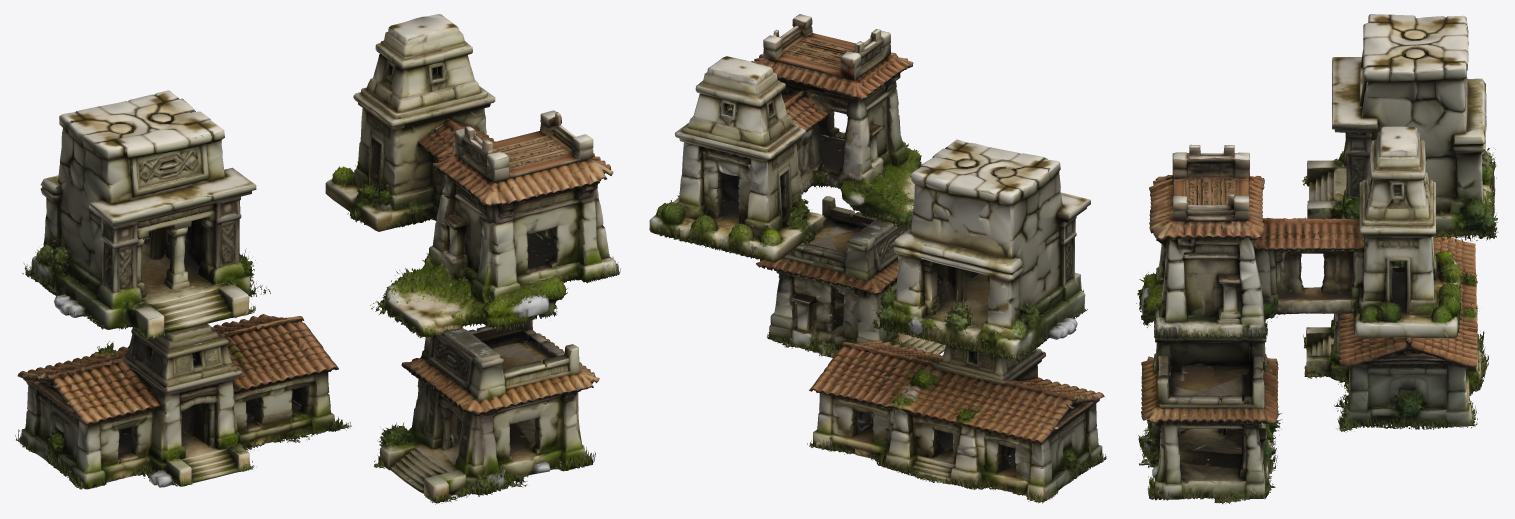
The model's file is Ancient_Stone_Structu.glb.
The picture shows the model from 3 angles, left to right: view 1: azimuth 30°, elevation 25°; view 2: azimuth 150°, elevation 25°; view 3: azimuth 270°, elevation 25°; orthographic projection. The views are drawn at different scales.
Parts seen in each view (by area): view 1: Ancient_Stone_Structu; view 2: Ancient_Stone_Structu; view 3: Ancient_Stone_Structu.
Boxes of the visible parts, <box> form: Ancient_Stone_Structu: <box>15,14,620,504</box>; Ancient_Stone_Structu: <box>649,14,1106,503</box>; Ancient_Stone_Structu: <box>1136,14,1498,504</box>.
Bounding box in the file's own units: 1.9 × 1.44 × 1.39.
1 material, 1 textured.
